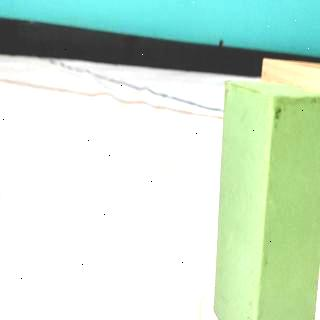greenbox: (213, 79, 320, 320)
